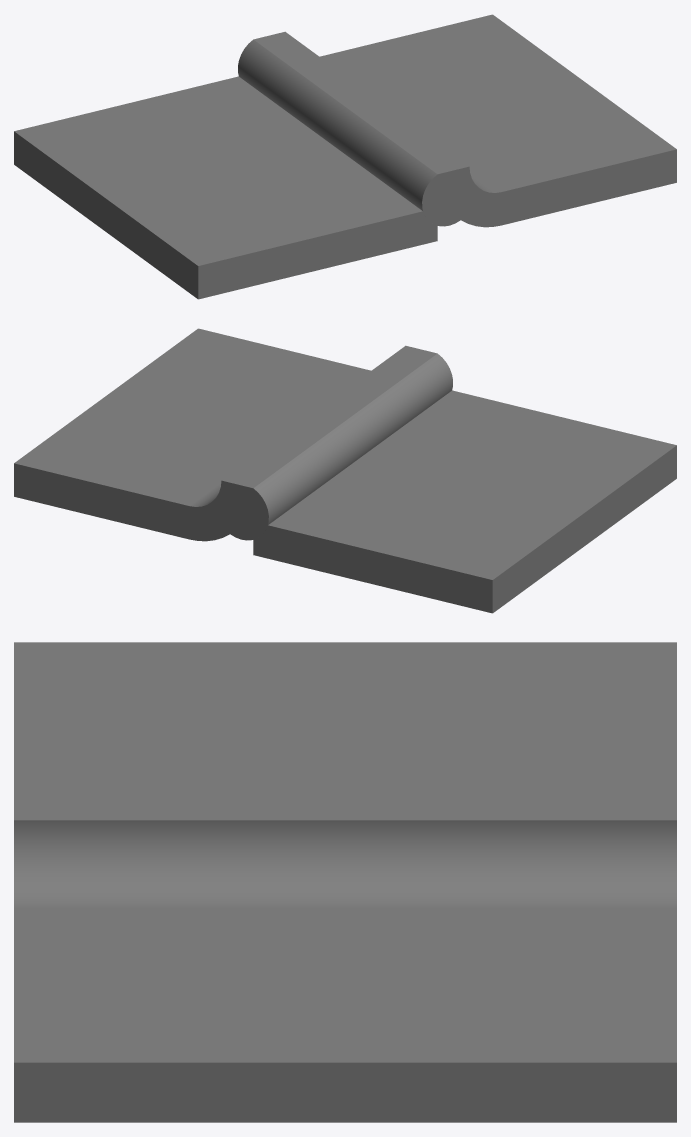
The picture shows the model from 3 angles, top to bottom: view 1: azimuth 30°, elevation 25°; view 2: azimuth 150°, elevation 25°; view 3: azimuth 270°, elevation 25°; orthographic projection. The views are drawn at different scales.
Visible parts, largest first — view 1: mesh_id4, mesh_id5; view 2: mesh_id4, mesh_id5; view 3: mesh_id4, mesh_id5.
Part boxes in pixels (x1,y1,x2,y2): mesh_id4: (14,14,676,299); mesh_id5: (238,31,469,226); mesh_id4: (14,328,676,613); mesh_id5: (221,345,452,540); mesh_id4: (14,642,676,1122); mesh_id5: (14,792,676,820).
Size of the model in its own units: 0.512 by 0.0683 by 0.3413.
2 materials, 2 textured.
